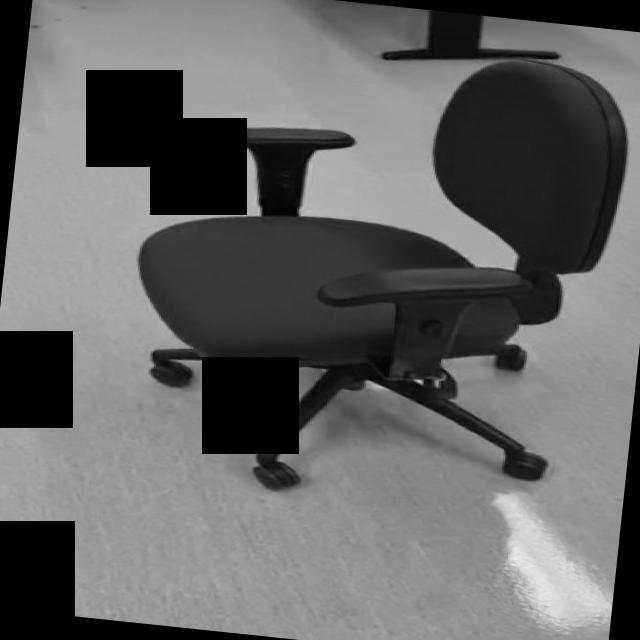chair: (116, 21, 640, 520)
